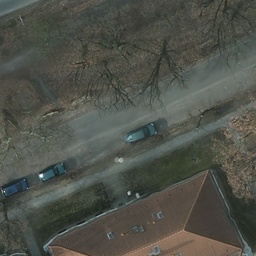car: (121, 123, 156, 144), (35, 162, 65, 181), (1, 176, 27, 197)
